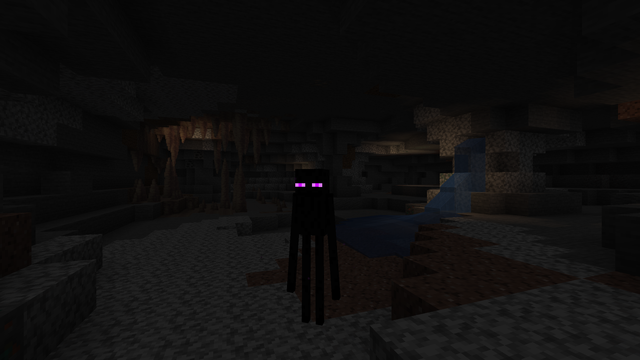endermens: (293, 163, 334, 334)
